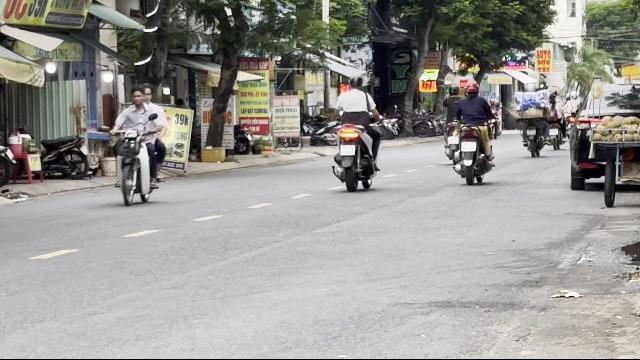helmet: (348, 74, 364, 90)
licenseplate: (340, 145, 356, 155)
motorcyclist: (107, 84, 169, 206), (332, 73, 382, 191)
nohelmet: (129, 86, 145, 106), (142, 84, 154, 104)
